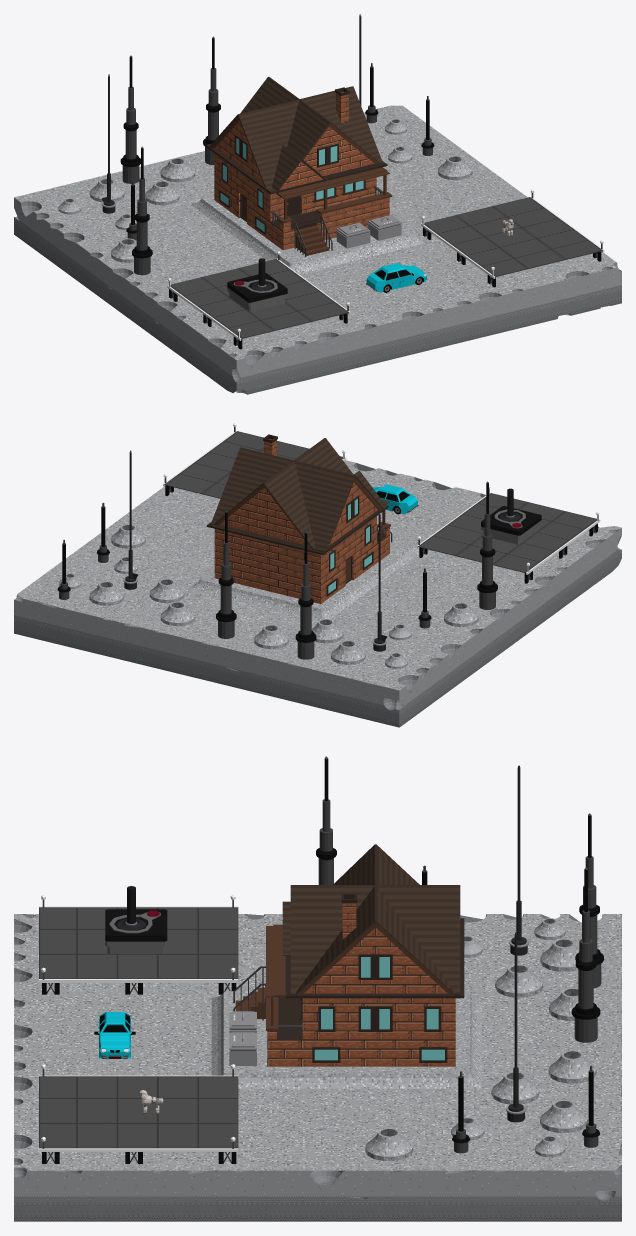
3 views of the same model, one above another, from view 1: azimuth 30°, elevation 25°; view 2: azimuth 150°, elevation 25°; view 3: azimuth 270°, elevation 25° (orthographic). The views are drawn at different scales.
Parts seen in each view (by area): view 1: Cube.027, Cube.469, Cube.026, Cube.025, Cube.028, OBJRANDOM_JOYSTICK, Cylinder.020, Cylinder.021, VEHICLES_CAR, Cylinder.017, Cube.029, Cube.030 (+4 smaller); view 2: Cube.027, Cube.469, Cube.025, Cube.028, Cube.026, OBJRANDOM_JOYSTICK, Cylinder.020, Cylinder.021, Cylinder.017, VEHICLES_CAR, Cylinder.031, Cylinder.028 (+8 smaller); view 3: Cube.027, Cube.469, Cube.026, Cube.025, Cube.028, OBJRANDOM_JOYSTICK, Cylinder.017, VEHICLES_CAR, Cylinder.020, Cylinder.021, Cylinder.033, Cylinder.031 (+10 smaller).
Part boxes in pixels (x1=…): Cube.027: x1=14, y1=105, x2=621, y2=394; Cube.469: x1=205, y1=76, x2=392, y2=256; Cube.026: x1=421, y1=189, x2=604, y2=287; Cube.025: x1=167, y1=251, x2=350, y2=349; Cube.028: x1=191, y1=195, x2=424, y2=274; OBJRANDOM_JOYSTICK: x1=227, y1=258, x2=287, y2=311; Cylinder.020: x1=120, y1=55, x2=140, y2=183; Cylinder.021: x1=132, y1=146, x2=152, y2=275; VEHICLES_CAR: x1=366, y1=263, x2=427, y2=292; Cylinder.017: x1=203, y1=36, x2=220, y2=164; Cube.029: x1=336, y1=222, x2=370, y2=248; Cube.030: x1=368, y1=215, x2=401, y2=240; Cube.027: x1=14, y1=460, x2=621, y2=727; Cube.469: x1=206, y1=434, x2=392, y2=603; Cube.025: x1=417, y1=485, x2=600, y2=583; Cube.028: x1=190, y1=538, x2=419, y2=620; Cube.026: x1=163, y1=423, x2=346, y2=498; OBJRANDOM_JOYSTICK: x1=481, y1=488, x2=541, y2=544; Cylinder.020: x1=295, y1=531, x2=316, y2=659; Cylinder.021: x1=477, y1=481, x2=497, y2=609; Cylinder.017: x1=216, y1=510, x2=236, y2=638; VEHICLES_CAR: x1=372, y1=484, x2=418, y2=514; Cylinder.031: x1=89, y1=581, x2=124, y2=605; Cylinder.028: x1=331, y1=640, x2=365, y2=664; Cube.027: x1=14, y1=914, x2=621, y2=1221; Cube.469: x1=233, y1=844, x2=464, y2=1066; Cube.026: x1=39, y1=1064, x2=238, y2=1163; Cube.025: x1=39, y1=895, x2=238, y2=994; Cube.028: x1=211, y1=991, x2=481, y2=1088; OBJRANDOM_JOYSTICK: x1=105, y1=886, x2=167, y2=953; Cylinder.017: x1=571, y1=867, x2=600, y2=1042; VEHICLES_CAR: x1=94, y1=1012, x2=135, y2=1058; Cylinder.020: x1=575, y1=813, x2=603, y2=988; Cylinder.021: x1=316, y1=756, x2=336, y2=884; Cylinder.033: x1=365, y1=1128, x2=413, y2=1160; Cylinder.031: x1=540, y1=1100, x2=587, y2=1132.
Bounding box in the file's own units: 4000 × 1749 × 4000.
36 materials, 6 textured.
